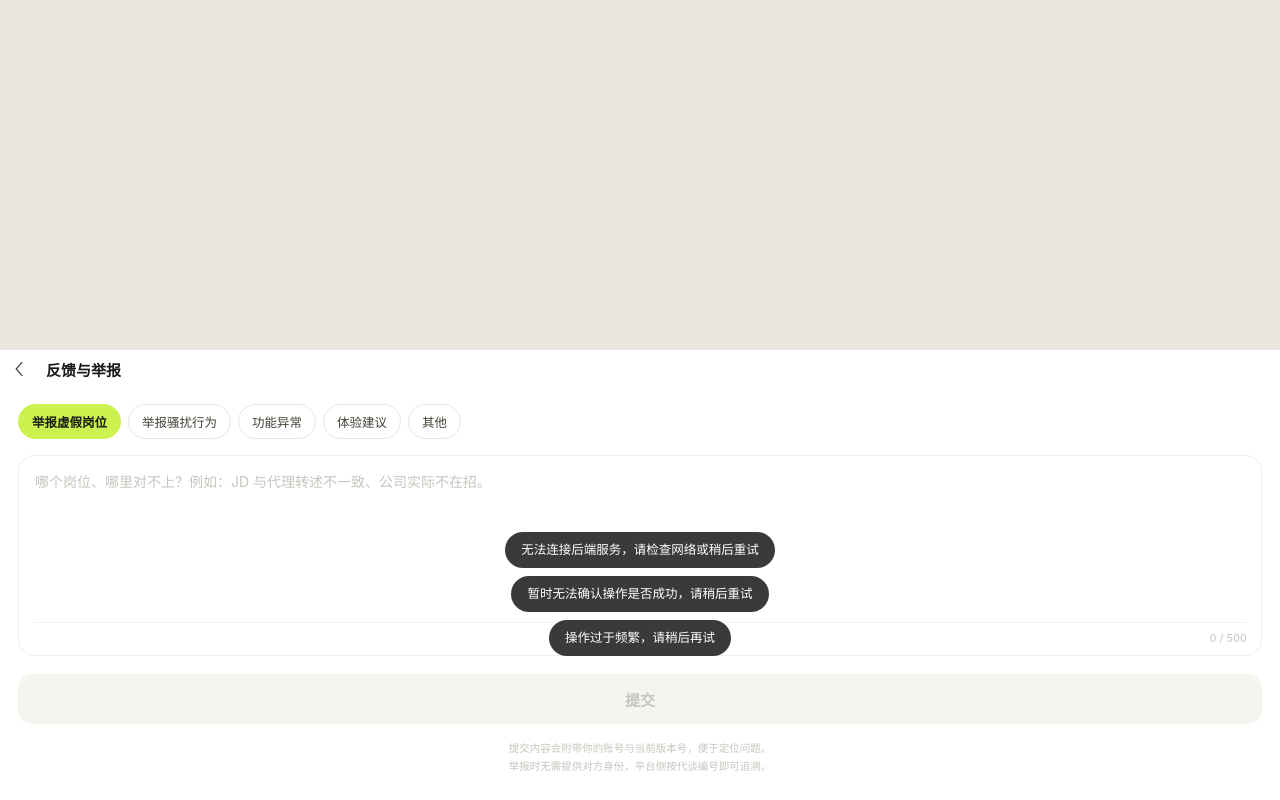
反馈 · Mock 字节级不变 › 产品分类本地成功：固定原型工单号与既有文案，零 P8 操作
(page scrolled)
Click the button "体验建议" at (362, 422), box [323, 404, 401, 439]
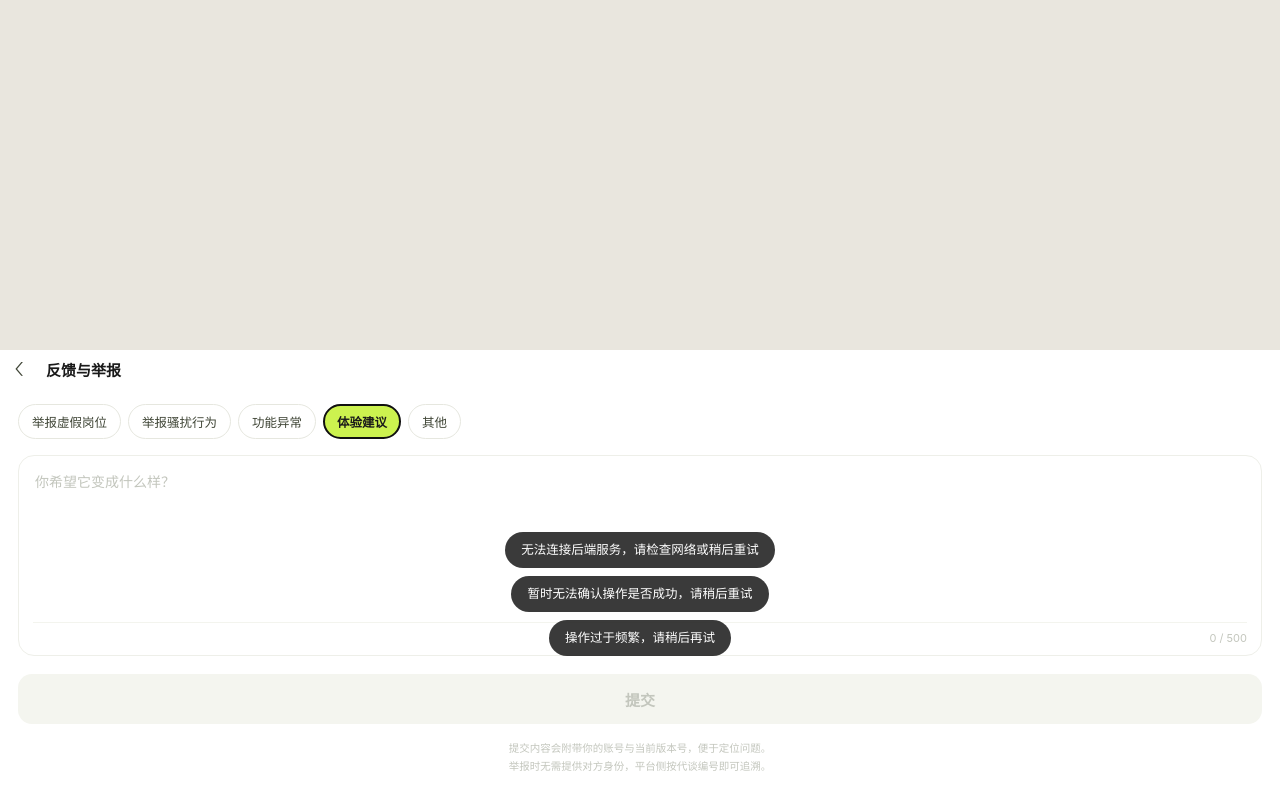
Type "希望增加状态说明" into the text box at (640, 543), box [33, 468, 1247, 618]
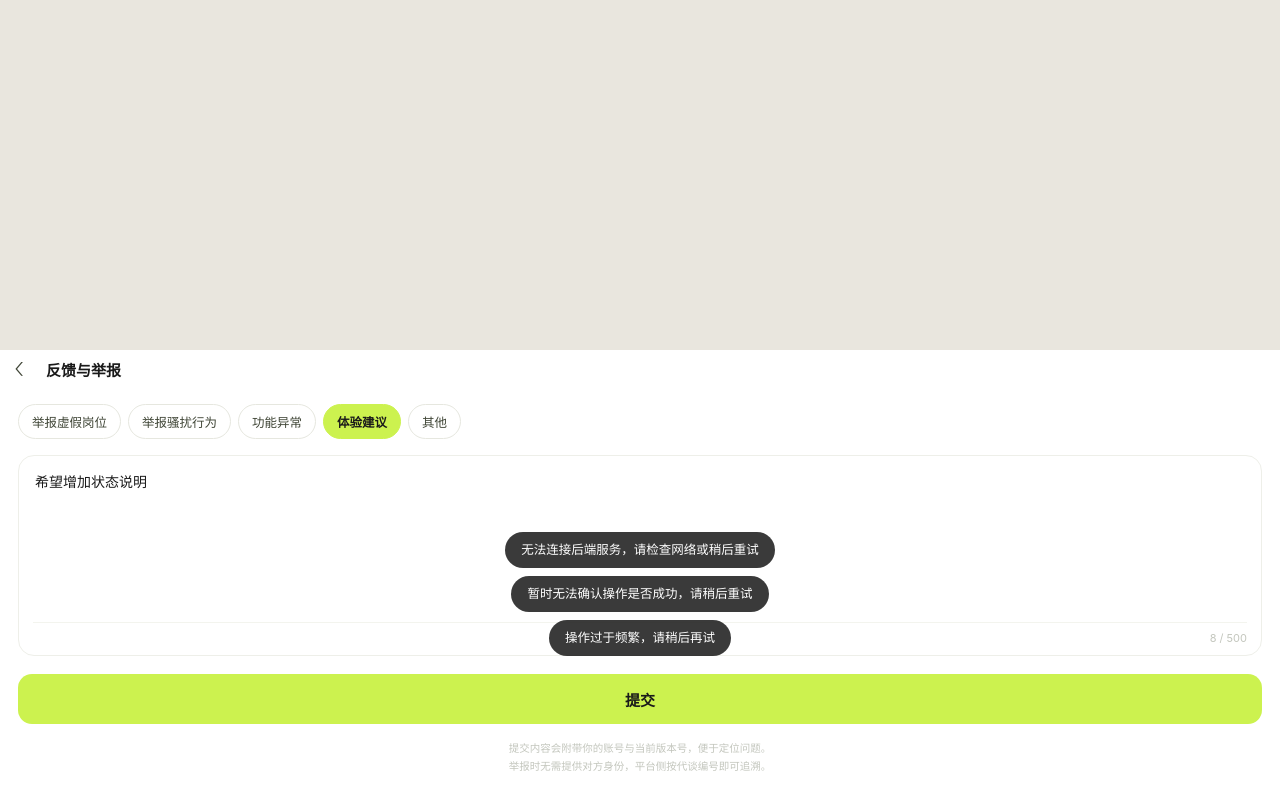
Click the button "提交" at (640, 699), box [18, 674, 1262, 724]
(page scrolled)
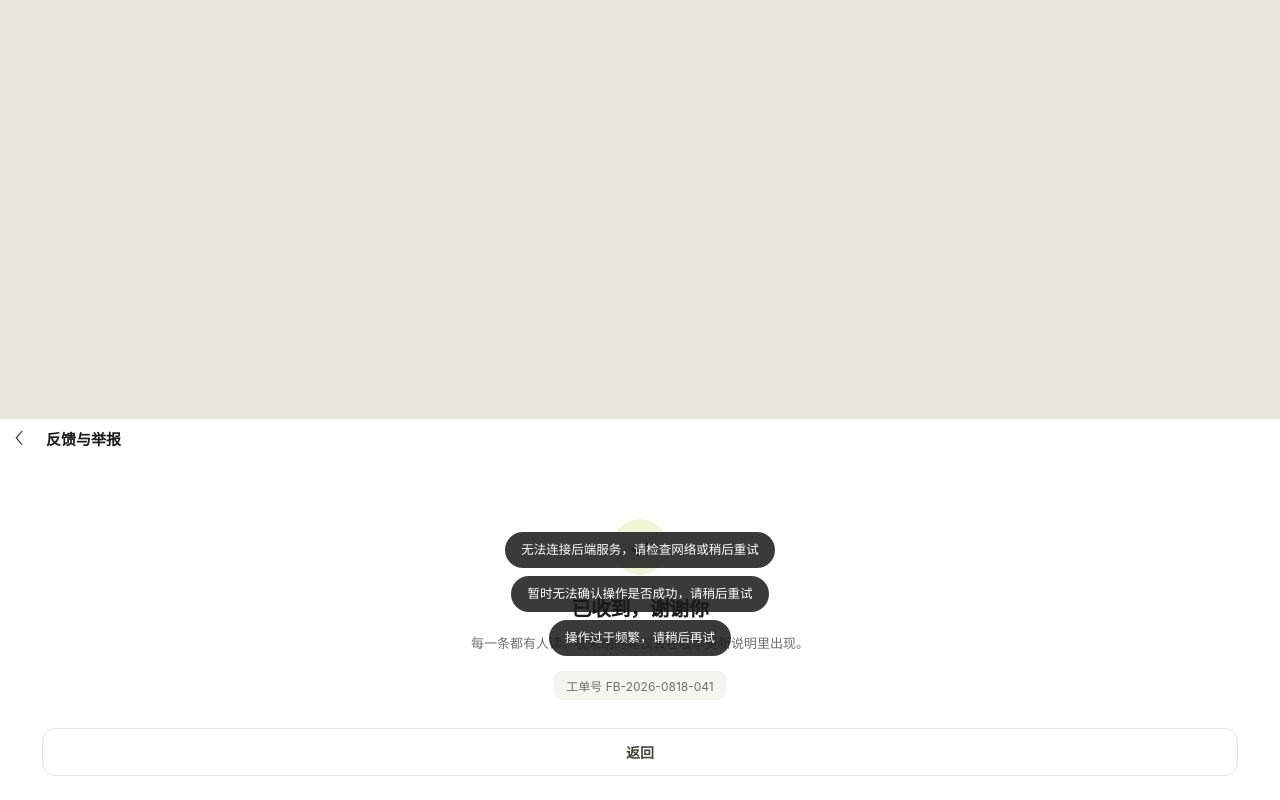
Result: the text "工单号 FB-2026-0818-041" is shown at [554, 671, 726, 700]
Result: the text "每一条都有人读。被采纳的建议会在版本更新说明里出现。" is shown at [471, 635, 809, 651]
